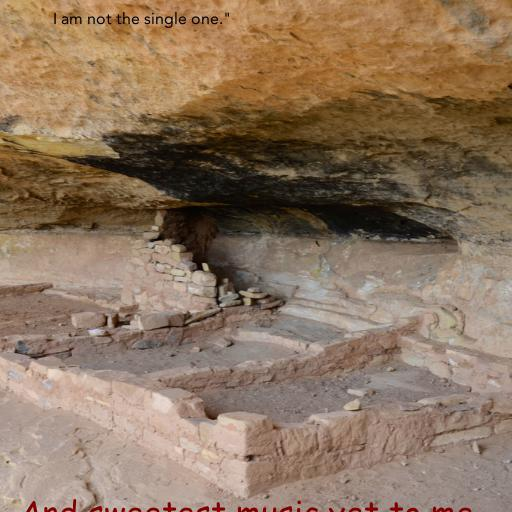Avenir: (53, 11, 231, 28)
Comic Sans MS: (18, 499, 474, 512)
